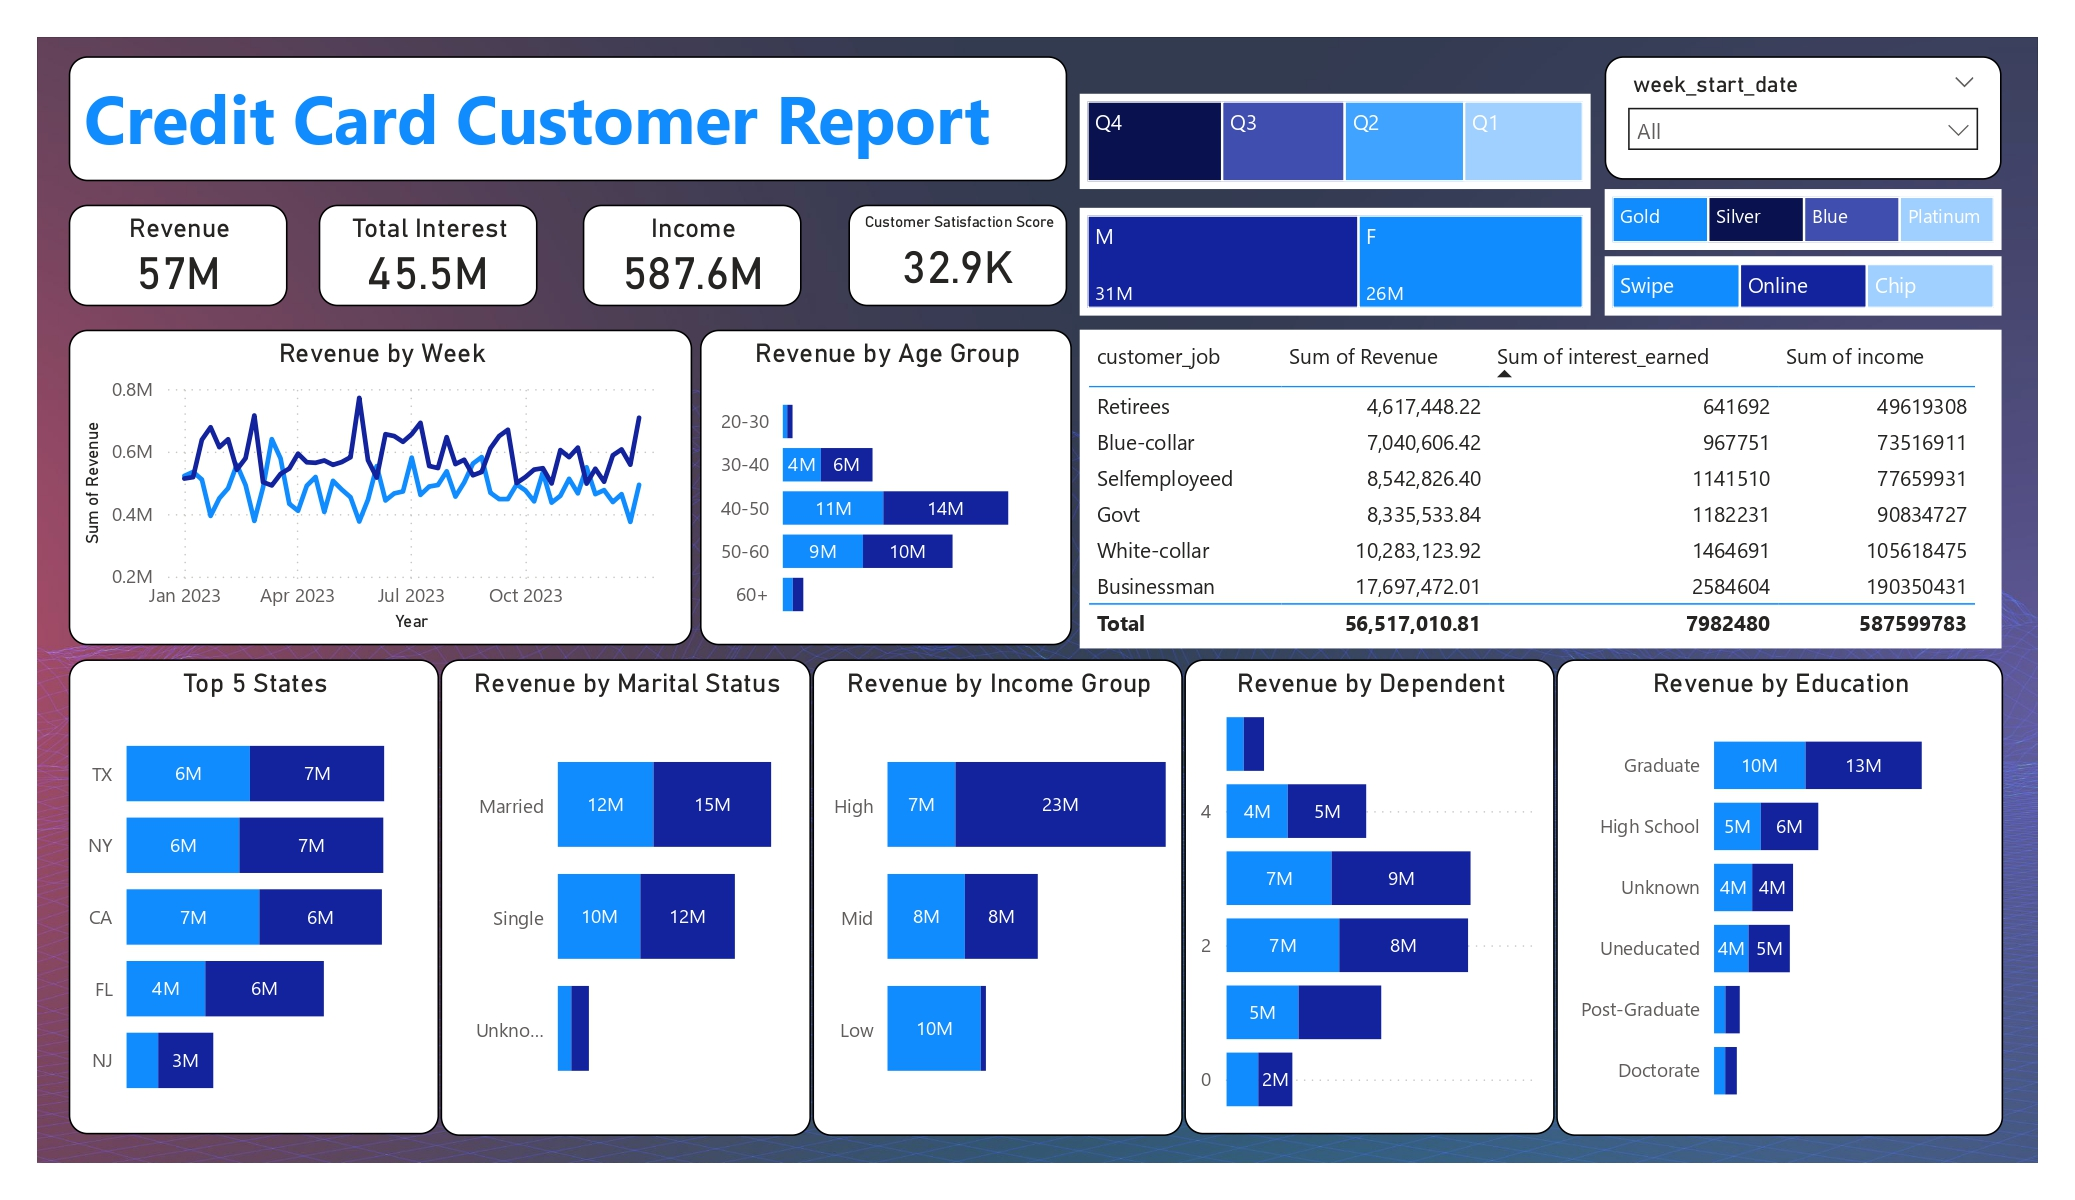

What the dashboard file says about the page in this screenshot:
{"tool":"powerbi","page":{"name":"CC_Customer","canvas":[1280,720],"ordinal":1},"visuals":[{"type":"textbox","box":[20.2,12.1,639,79.7],"z":0},{"type":"barChart","title":"Revenue by Income Group","fields":{"Y":["Sum(public cc_detail.Revenue)"],"Category":["public cust_detail.IncomeGroup"],"Series":["public cust_detail.gender"]},"box":[496,398,237,305],"z":1000},{"type":"tableEx","fields":{"Values":["public cust_detail.customer_job","Sum(public cc_detail.Revenue)","Sum(public cc_detail.interest_earned)","Sum(public cust_detail.income)"]},"box":[667,187,590,204],"z":2000},{"type":"card","title":"Revenue","fields":{"Values":["Sum(public cc_detail.Revenue)"]},"box":[20.2,107,140,65],"z":3000},{"type":"card","title":"Total Interest","fields":{"Values":["Sum(public cc_detail.total_trans_amt)"]},"box":[179.7,107,140,65],"z":4000},{"type":"card","title":"Income","fields":{"Values":["Sum(public cust_detail.income)"]},"box":[349.3,107,140,65],"z":5000},{"type":"card","title":"Customer Satisfaction Score","fields":{"Values":["Sum(public cust_detail.cust_satisfaction_score)"]},"box":[518.9,107,140.3,65],"z":6000},{"type":"slicer","fields":{"Values":["public cc_detail.week_start_date"]},"box":[1003,12,254,79],"z":7000},{"type":"treemap","fields":{"Group":["public cc_detail.qtr"],"Values":["Avg(public cc_detail.client_num)"]},"box":[667,36,327,61],"z":8000},{"type":"treemap","fields":{"Values":["Avg(public cc_detail.client_num)"],"Group":["public cc_detail.use_chip"]},"box":[1003,140,254,38],"z":9000},{"type":"treemap","fields":{"Values":["Avg(public cc_detail.client_num)"],"Group":["public cc_detail.card_category"]},"box":[1003,97,254,39],"z":10000},{"type":"lineChart","title":"Revenue by Week","fields":{"Y":["Sum(public cc_detail.Revenue)"],"Series":["public cust_detail.gender"],"Category":["public cc_detail.week_start_date.Variation.Date Hierarchy.Year","public cc_detail.week_start_date.Variation.Date Hierarchy.Month","public cc_detail.week_start_date.Variation.Date Hierarchy.Day"]},"box":[20,187,399,202],"z":11000},{"type":"treemap","fields":{"Group":["public cust_detail.gender"],"Values":["Sum(public cc_detail.Revenue)"]},"box":[667,109,327,69],"z":12000},{"type":"barChart","title":"Revenue by Age Group","fields":{"Y":["Sum(public cc_detail.Revenue)"],"Category":["public cust_detail.AgeGroup"],"Series":["public cust_detail.gender"]},"box":[424,187,238,202],"z":13000},{"type":"barChart","title":"Revenue by Dependent","fields":{"Y":["Sum(public cc_detail.Revenue)"],"Category":["public cust_detail.dependent_count"],"Series":["public cust_detail.gender"]},"box":[734,398,237,304],"z":14000},{"type":"barChart","title":"Revenue by Education","fields":{"Y":["Sum(public cc_detail.Revenue)"],"Category":["public cust_detail.education_level"],"Series":["public cust_detail.gender"]},"box":[972,398,286,305],"z":15000},{"type":"barChart","title":"Top 5 States","fields":{"Y":["Sum(public cc_detail.Revenue)"],"Category":["public cust_detail.state_cd"],"Series":["public cust_detail.gender"]},"box":[20,398,237,304],"z":16000},{"type":"barChart","title":"Revenue by Marital Status","fields":{"Y":["Sum(public cc_detail.Revenue)"],"Category":["public cust_detail.marital_status"],"Series":["public cust_detail.gender"]},"box":[258,398,237,305],"z":17000}]}

Visuals, with their boxes in screenshot pixels (x1, y1, x2, y2):
textbox: bbox(69, 56, 1068, 181)
"Revenue by Income Group" barChart: bbox(812, 659, 1183, 1136)
tableEx - public cust_detail.customer_job x Sum(public cc_detail.Revenue): bbox(1080, 330, 2002, 648)
"Revenue" card: bbox(69, 205, 288, 306)
"Total Interest" card: bbox(318, 205, 537, 306)
"Income" card: bbox(583, 205, 802, 306)
"Customer Satisfaction Score" card: bbox(848, 205, 1068, 306)
slicer - public cc_detail.week_start_date: bbox(1605, 56, 2002, 180)
treemap - public cc_detail.qtr x Avg(public cc_detail.client_num): bbox(1080, 94, 1591, 189)
treemap - Avg(public cc_detail.client_num) x public cc_detail.use_chip: bbox(1605, 256, 2002, 316)
treemap - Avg(public cc_detail.client_num) x public cc_detail.card_category: bbox(1605, 189, 2002, 250)
"Revenue by Week" lineChart: bbox(69, 330, 692, 645)
treemap - public cust_detail.gender x Sum(public cc_detail.Revenue): bbox(1080, 208, 1591, 316)
"Revenue by Age Group" barChart: bbox(700, 330, 1072, 645)
"Revenue by Dependent" barChart: bbox(1184, 659, 1555, 1134)
"Revenue by Education" barChart: bbox(1556, 659, 2003, 1136)
"Top 5 States" barChart: bbox(69, 659, 439, 1134)
"Revenue by Marital Status" barChart: bbox(441, 659, 811, 1136)
